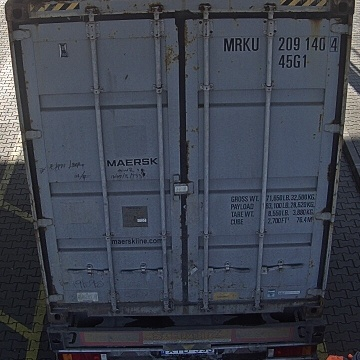serial_id: (222, 36, 338, 52)
